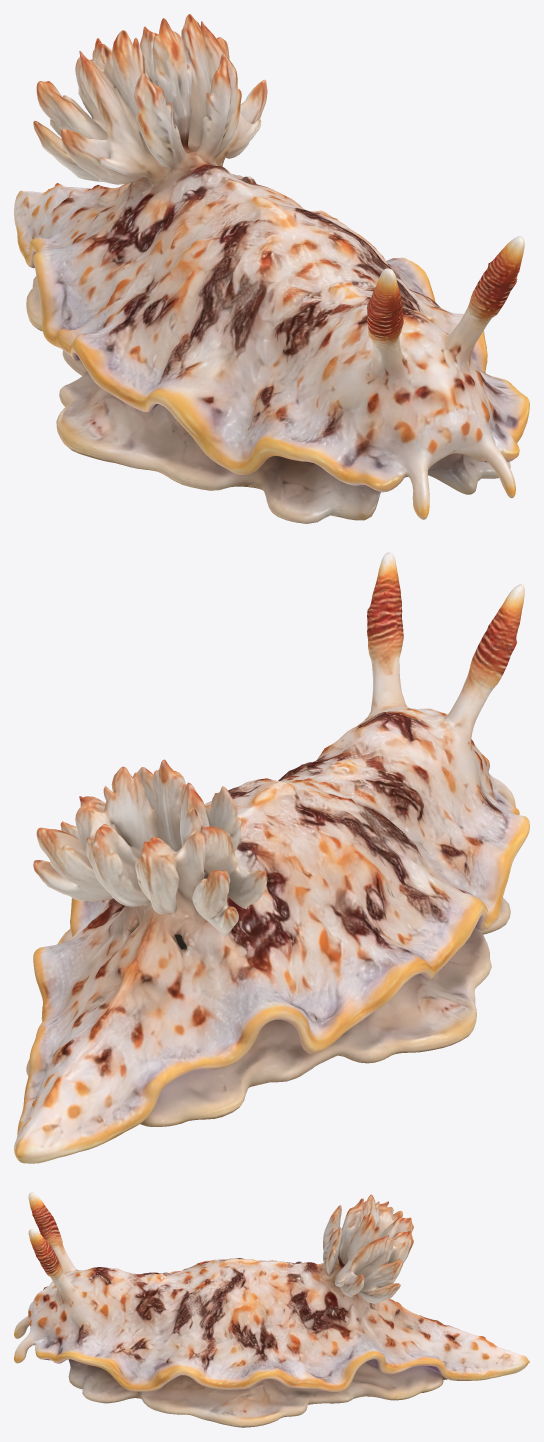
File: slug.glb
The picture shows the model from 3 angles, top to bottom: view 1: azimuth 30°, elevation 25°; view 2: azimuth 150°, elevation 25°; view 3: azimuth 270°, elevation 25°; orthographic projection. The views are drawn at different scales.
Parts seen in each view (by area): view 1: model; view 2: model; view 3: model.
Part boxes in pixels (left/top/right/bottom): model: left=14, top=14, right=529, bottom=523; model: left=14, top=552, right=529, bottom=1163; model: left=14, top=1192, right=529, bottom=1427.
Size of the model in its own units: 0.9664 by 0.7148 by 1.89.
Materials: 1 (1 with a texture image).
